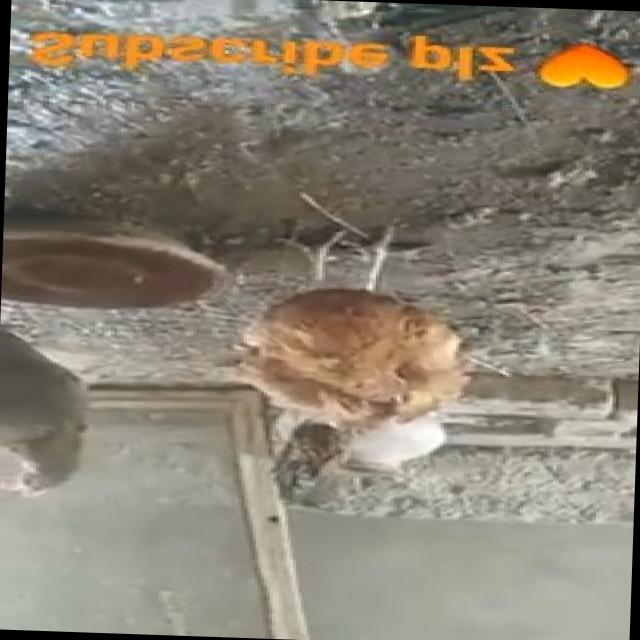sleeping chickens: (224, 189, 471, 462)
